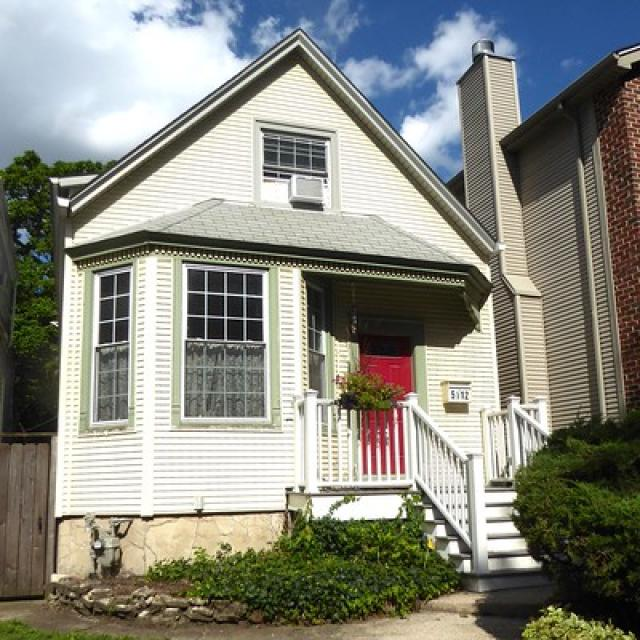building: (43, 28, 552, 598)
